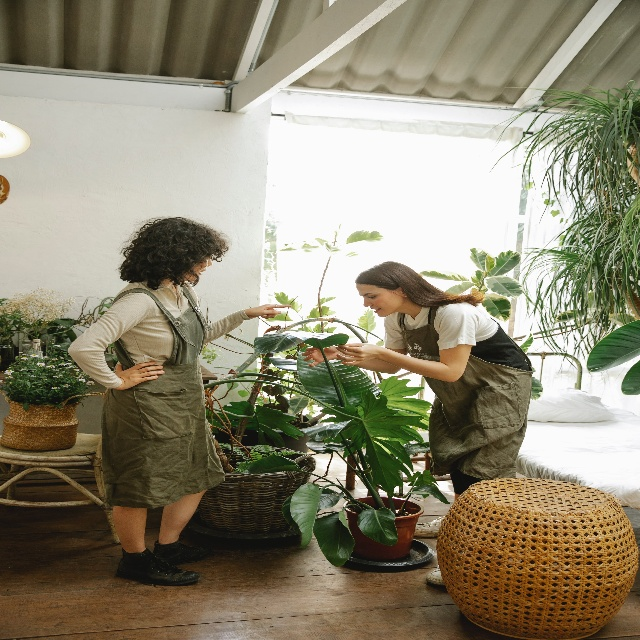Sin_guantes: (114, 361, 164, 391), (335, 342, 378, 366), (301, 345, 338, 367), (247, 304, 292, 319)
